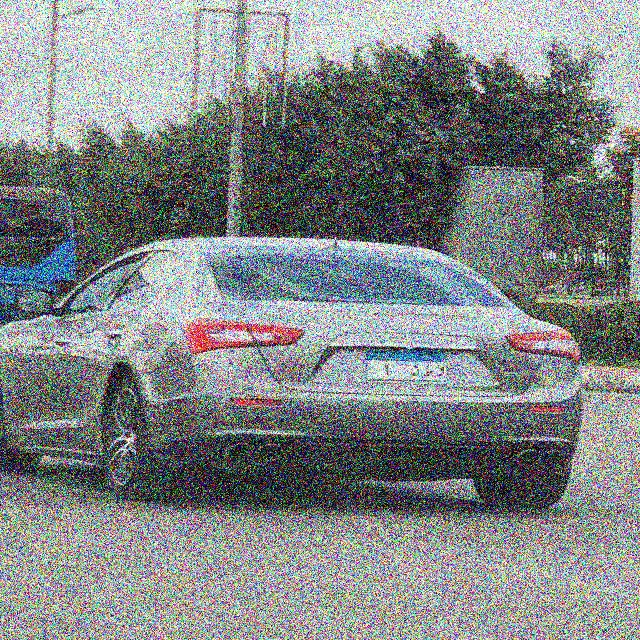License Plate: (364, 345, 452, 382)
